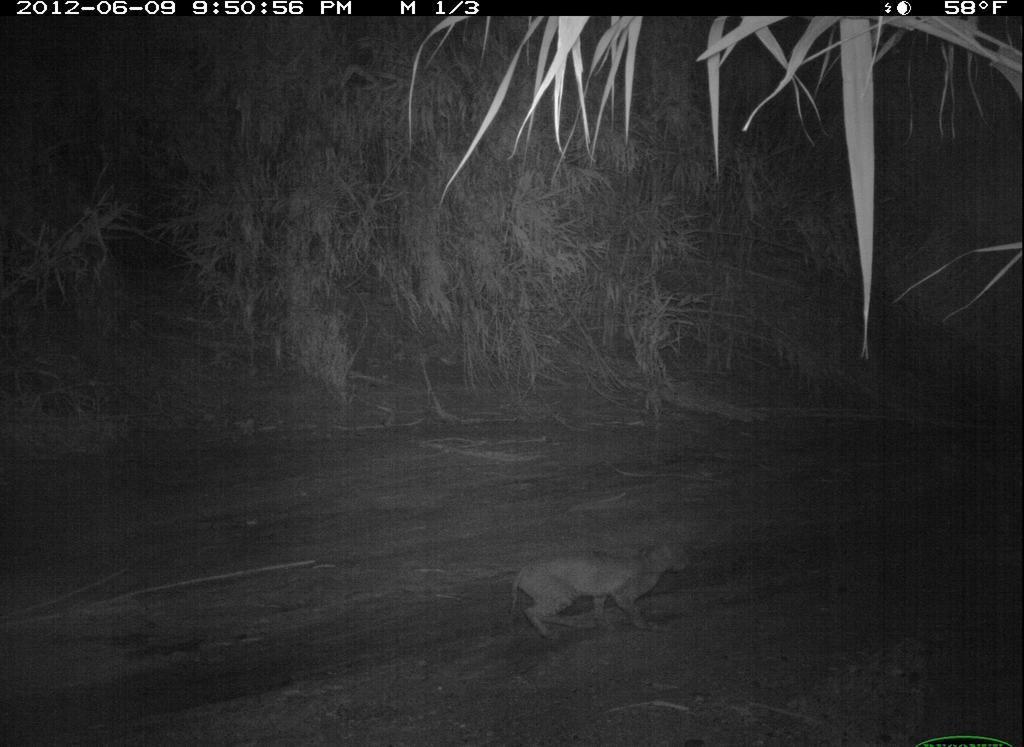bobcat: (504, 534, 697, 646)
